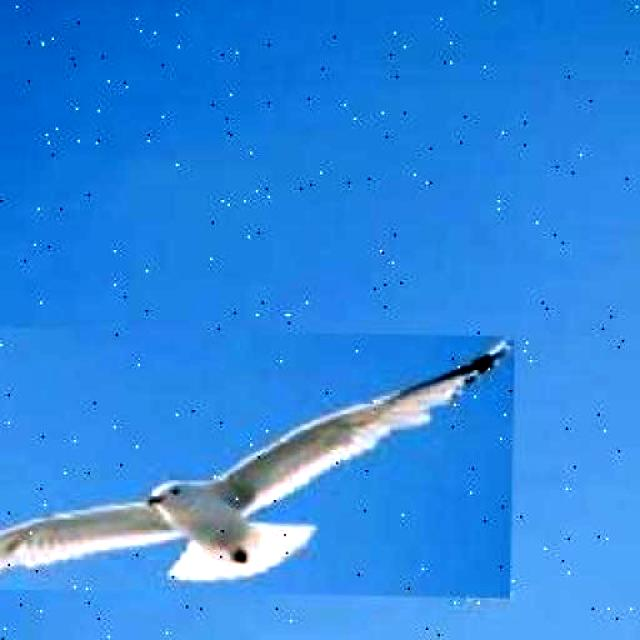airplane: (0, 324, 514, 598)
